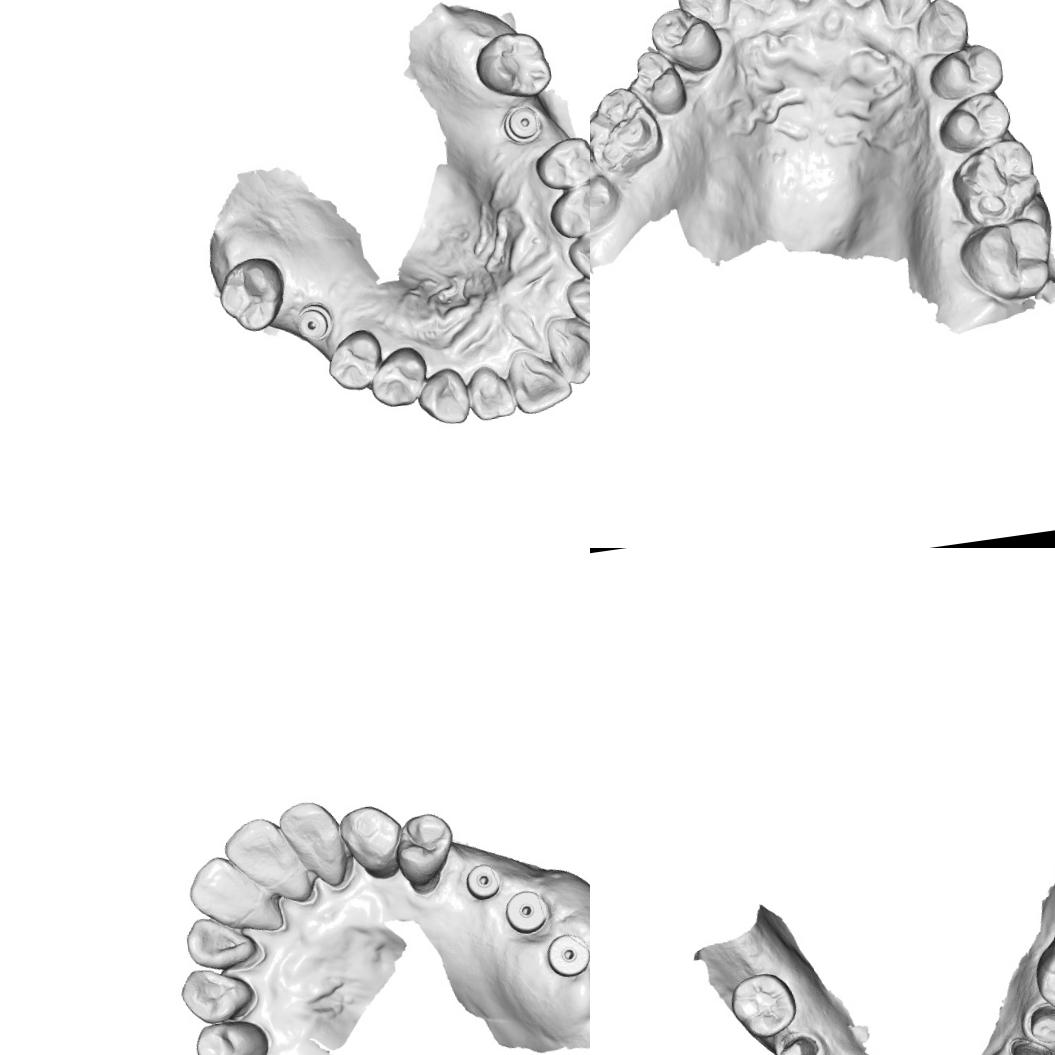canine: (336, 800, 409, 887), (176, 960, 262, 1030), (413, 365, 472, 429), (909, 0, 974, 57), (674, 0, 735, 30), (565, 226, 590, 288)
crown: (1023, 1000, 1055, 1050), (773, 1033, 823, 1055), (1007, 1037, 1051, 1055)
implant: (500, 887, 550, 937), (542, 929, 590, 981), (500, 100, 546, 148), (292, 300, 336, 346), (463, 861, 504, 902)
incisor: (276, 795, 354, 894), (218, 810, 299, 894), (503, 342, 575, 418), (182, 852, 262, 920), (181, 909, 265, 973), (543, 310, 590, 389), (462, 360, 520, 424), (875, 0, 932, 30), (563, 271, 590, 333)
molar: (946, 134, 1042, 226), (959, 214, 1055, 305), (470, 26, 556, 105), (212, 254, 290, 339), (590, 86, 664, 173), (725, 968, 802, 1044), (590, 146, 621, 242), (1031, 943, 1055, 1019)
premolar: (648, 0, 727, 81), (391, 808, 462, 898), (934, 88, 1016, 156), (624, 45, 688, 120), (932, 39, 1004, 104), (366, 343, 432, 411), (321, 326, 386, 395), (531, 133, 590, 192), (190, 1016, 273, 1055), (545, 178, 590, 243)
